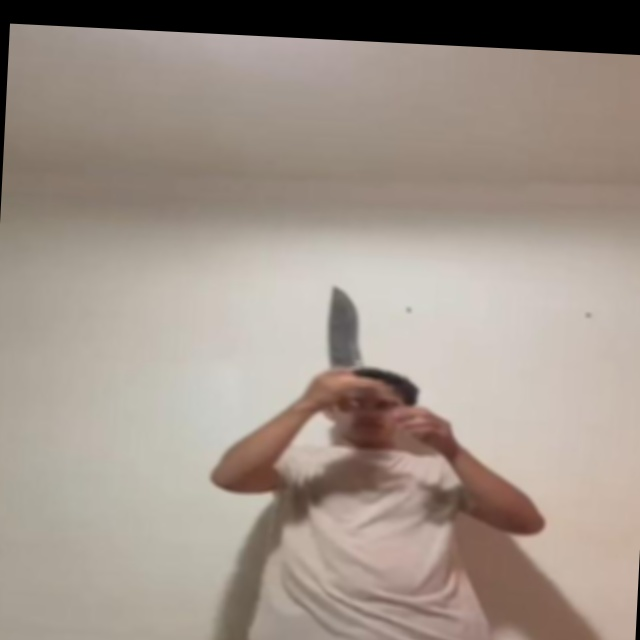Sharp-Object: (325, 286, 365, 371)
